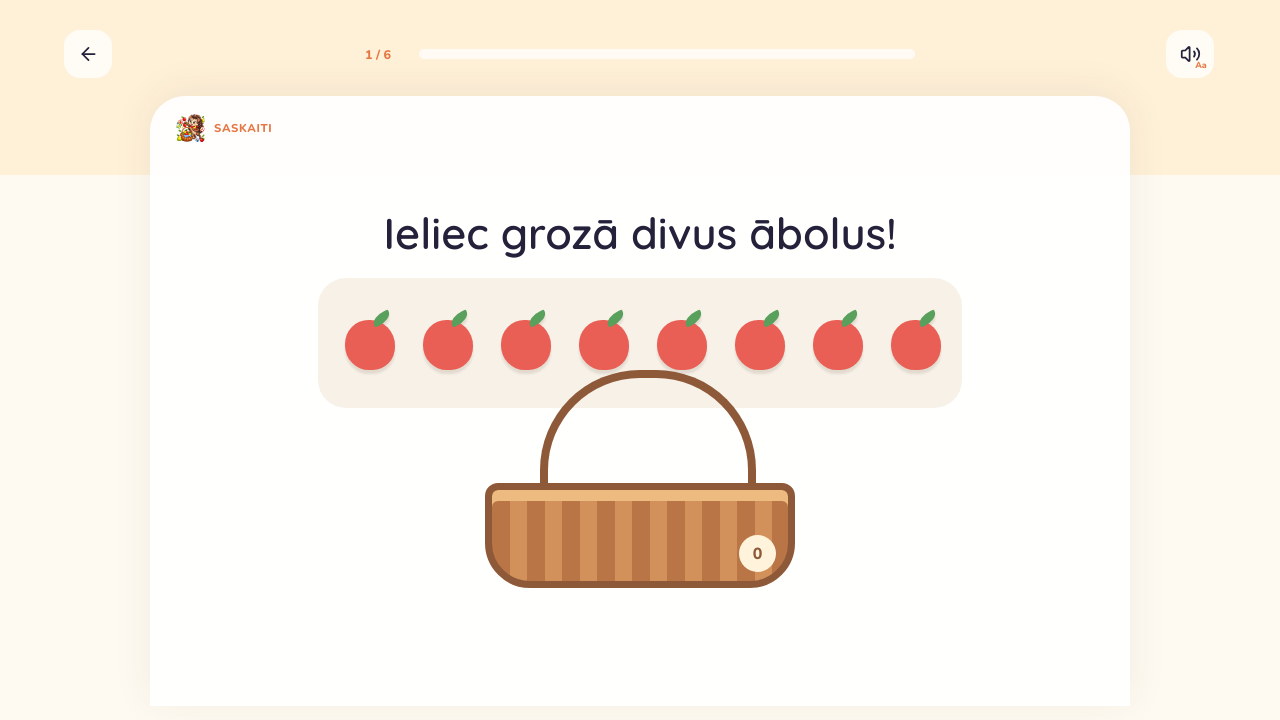
Test: Count and Put In auto-transition › never renders a Gatavs button and auto-advances to the number question once the pile matches the target, speaking the question
The width and height of the screenshot is (1280, 720).
Click the 1st button named "Ielikt grozā" at (367, 343), box 333,309 -> 401,377
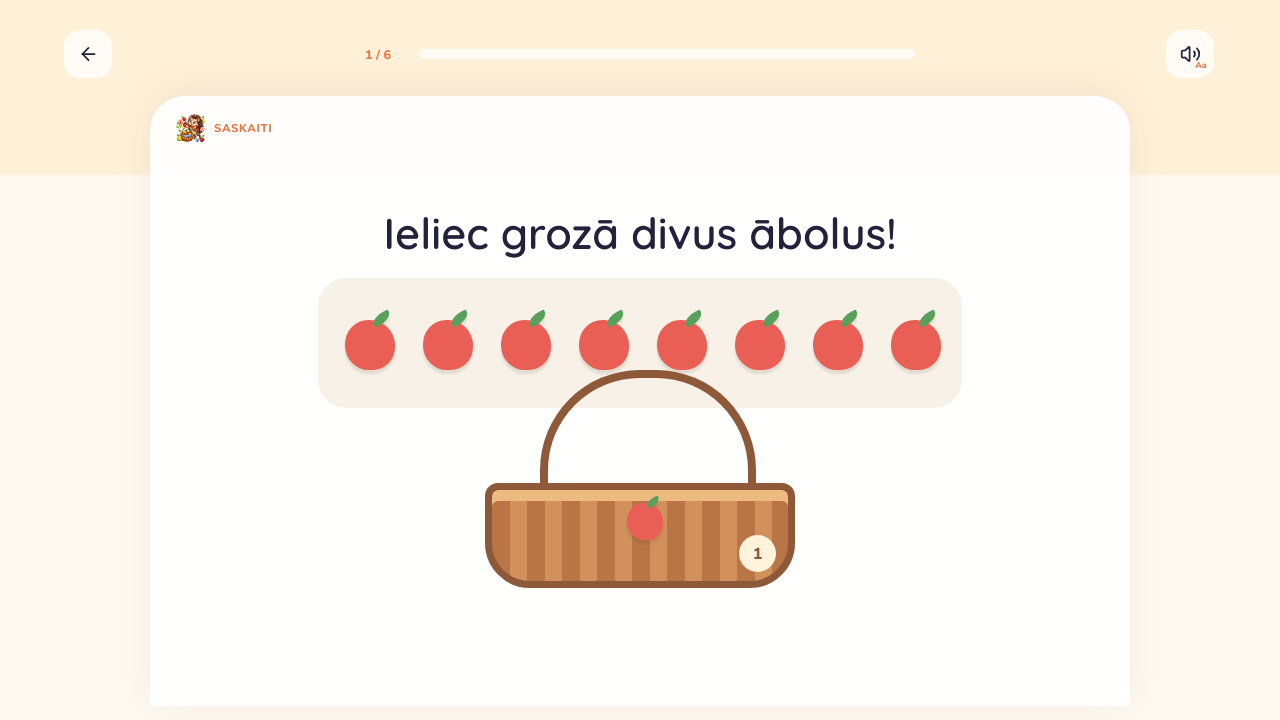
Expected: the text "Cik gardumu ir grozā?" is not shown
Click the 1st button named "Ielikt grozā" at (367, 343), box 333,309 -> 401,377
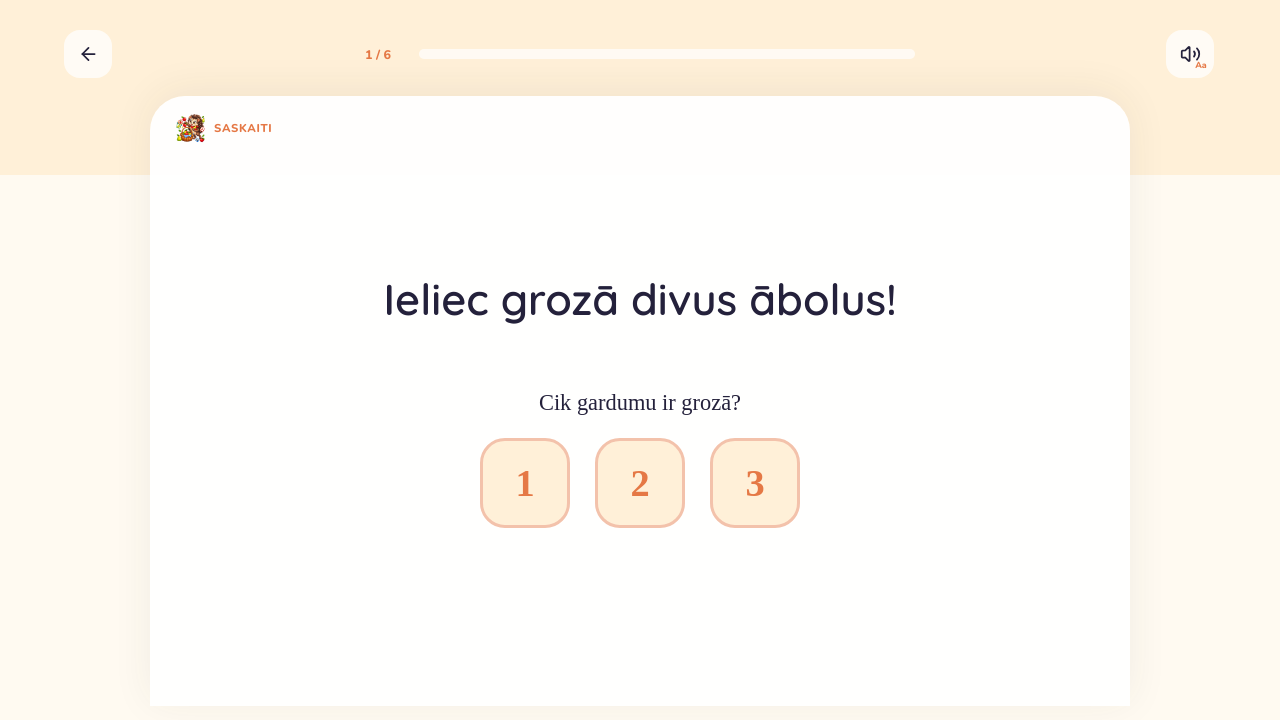
Result: the text "Cik gardumu ir grozā?" is shown at 539,390 -> 741,415
